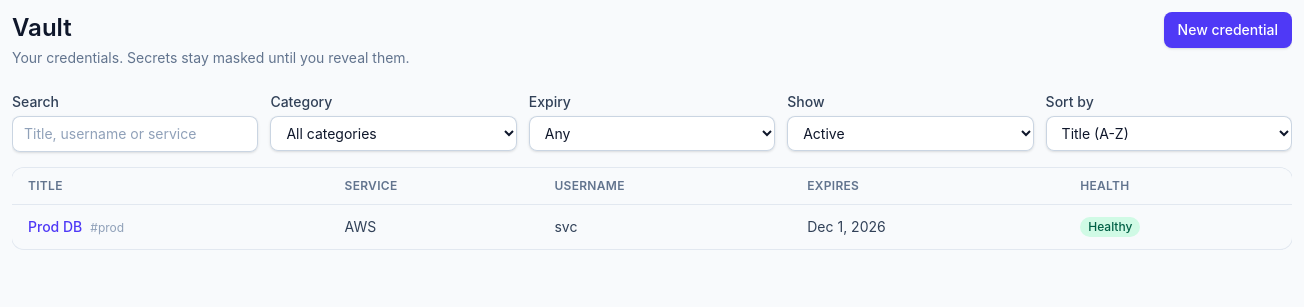
Scenario: sends search and filters to the server (debounced) and says when nothing matches
The width and height of the screenshot is (1304, 307).
Expected: the link "Prod DB" is shown, [28, 218, 82, 235]
Step 1. Type "zzz" into the search field labelled "Search" → (135, 134), box [12, 116, 258, 152]
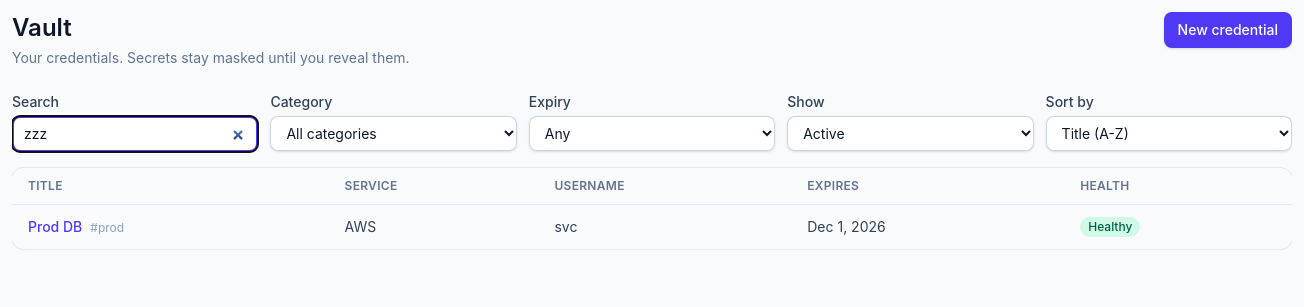
Step 2. Select "Database" in the dropdown labelled "Category" → (394, 134), box [270, 116, 517, 151]
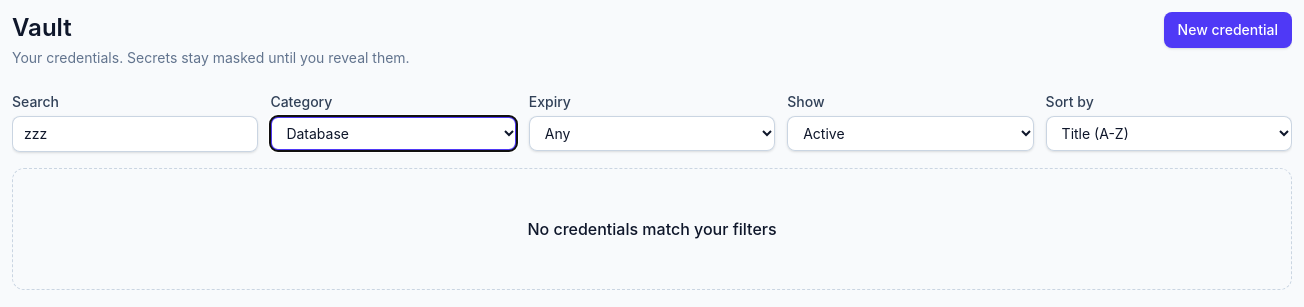
Expected: the text "No credentials match your filters" is shown, [527, 219, 777, 239]
